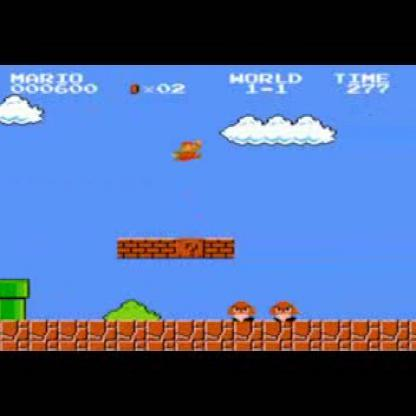Goomba: (270, 300, 300, 320), (230, 299, 256, 319)
